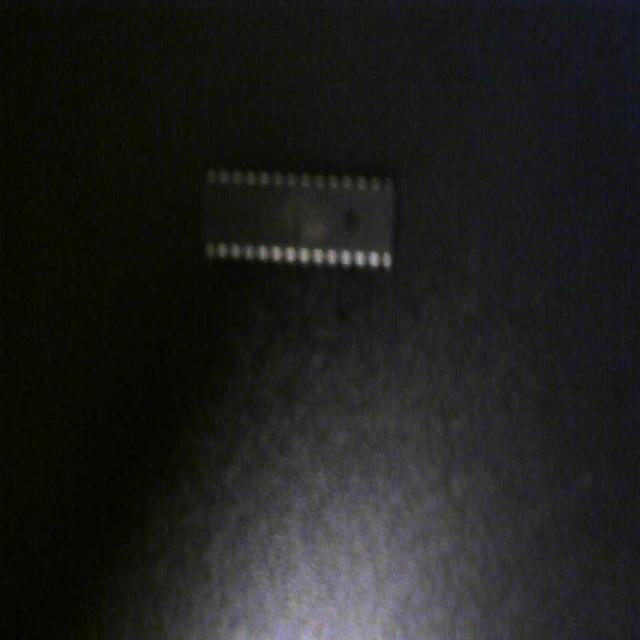atmega: (198, 160, 398, 279)
